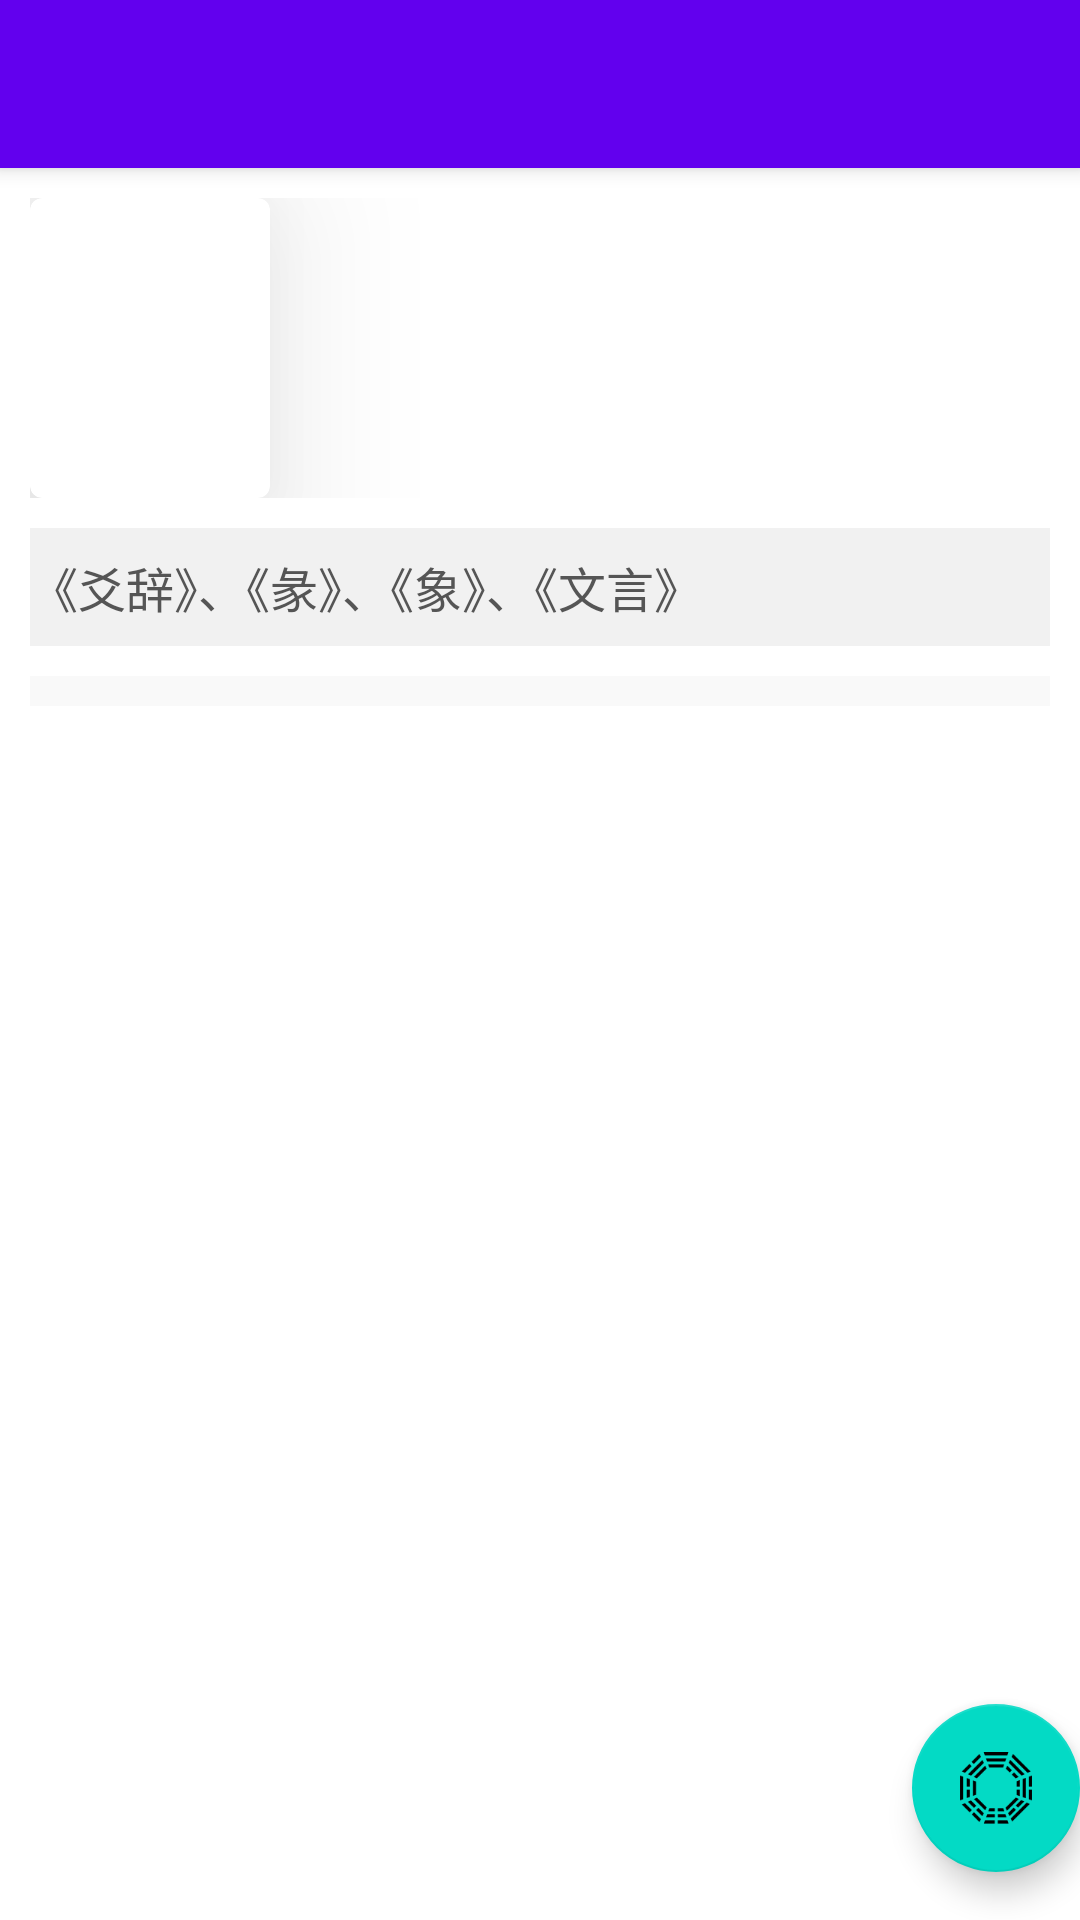

Named icons in this screenshot (1080×1920) and their centers, (x,y):
gua: (996,1788)
